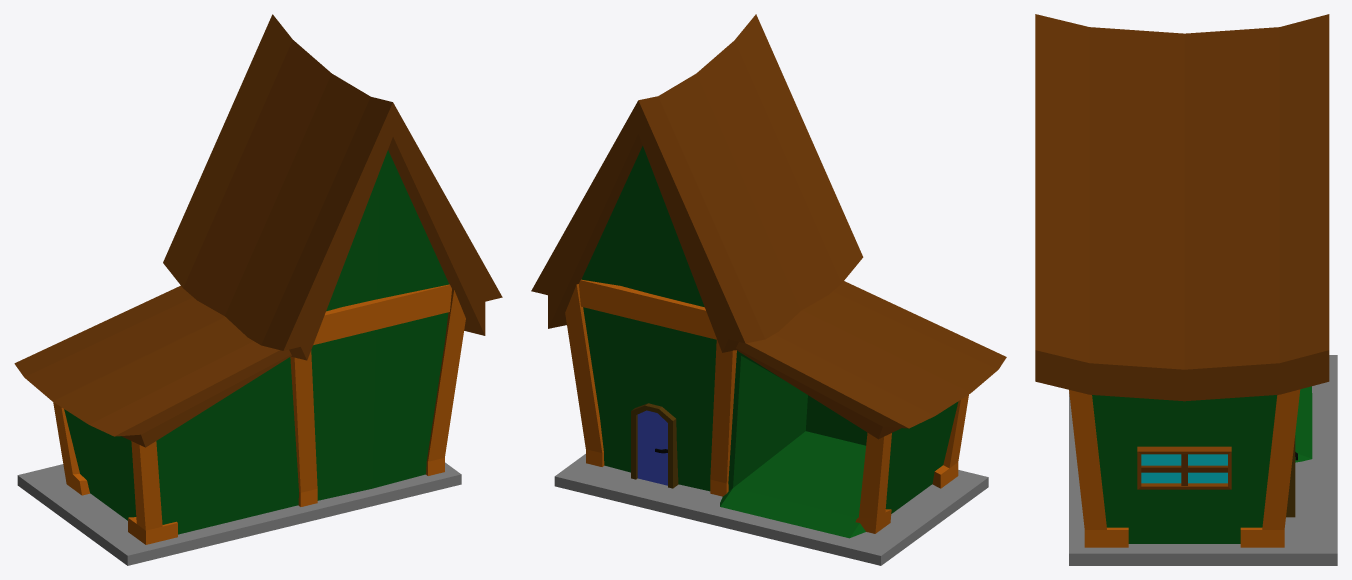
File: CasaComCagragemFechadaVerde.fbx
3 views of the same model, side by side, from view 1: azimuth 30°, elevation 25°; view 2: azimuth 150°, elevation 25°; view 3: azimuth 270°, elevation 25° (orthographic). The views are drawn at different scales.
Visible parts, largest first — view 1: CasaComCagragemFechadaVerde; view 2: CasaComCagragemFechadaVerde; view 3: CasaComCagragemFechadaVerde.
Boxes of the visible parts, bbox=[...] form: CasaComCagragemFechadaVerde: bbox=[14, 14, 502, 565]; CasaComCagragemFechadaVerde: bbox=[531, 14, 1006, 565]; CasaComCagragemFechadaVerde: bbox=[1035, 14, 1337, 565].
Bounding box in the file's own units: 1207 × 1225 × 664.
